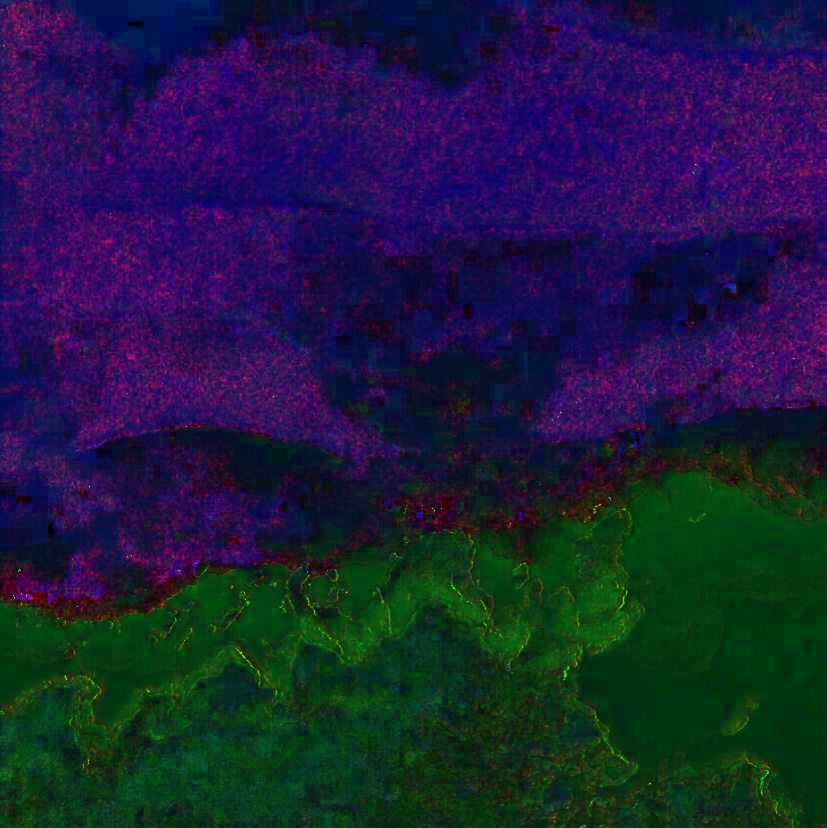rip_current: (246, 161, 579, 486)
